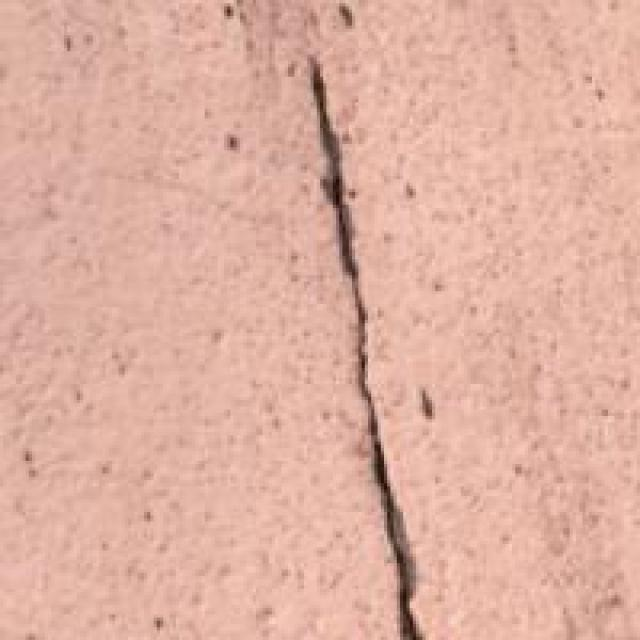Crack: (278, 48, 442, 637)
